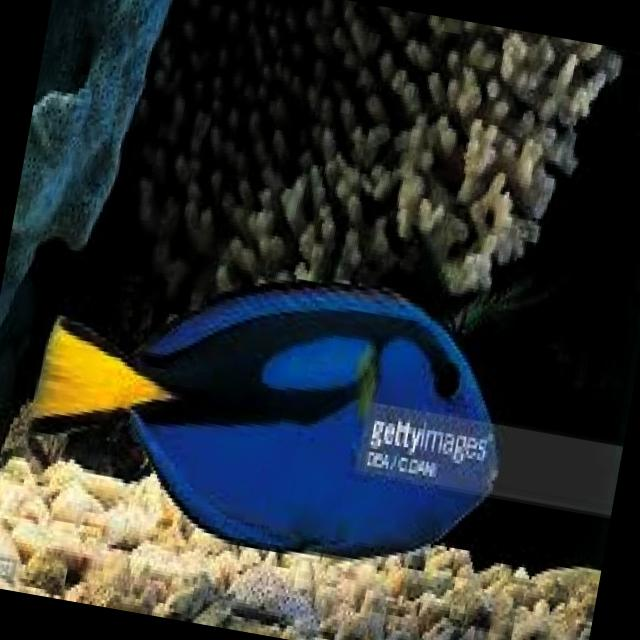TangFish: (10, 228, 528, 589)
